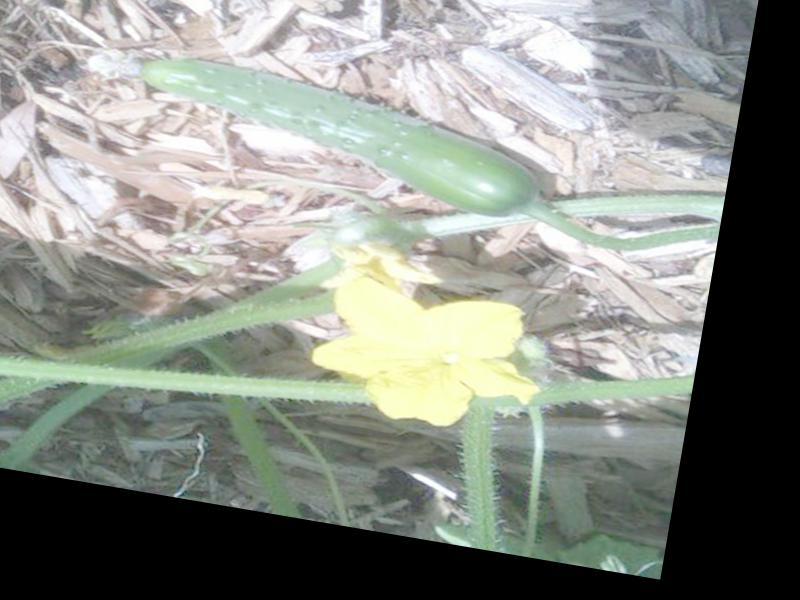Cucumber: (82, 38, 557, 225)
